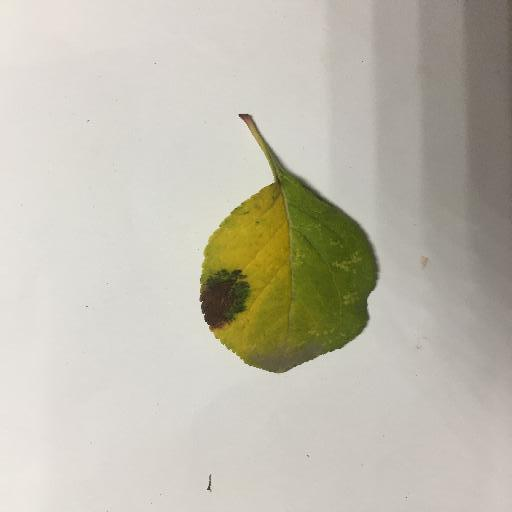Brown_Spot: (200, 265, 251, 327)
